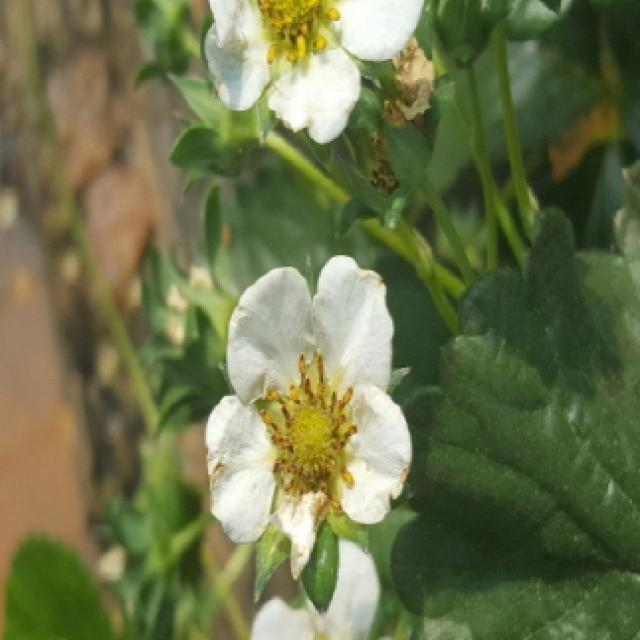Blossom Blight: (248, 343, 365, 516), (248, 0, 348, 74)
